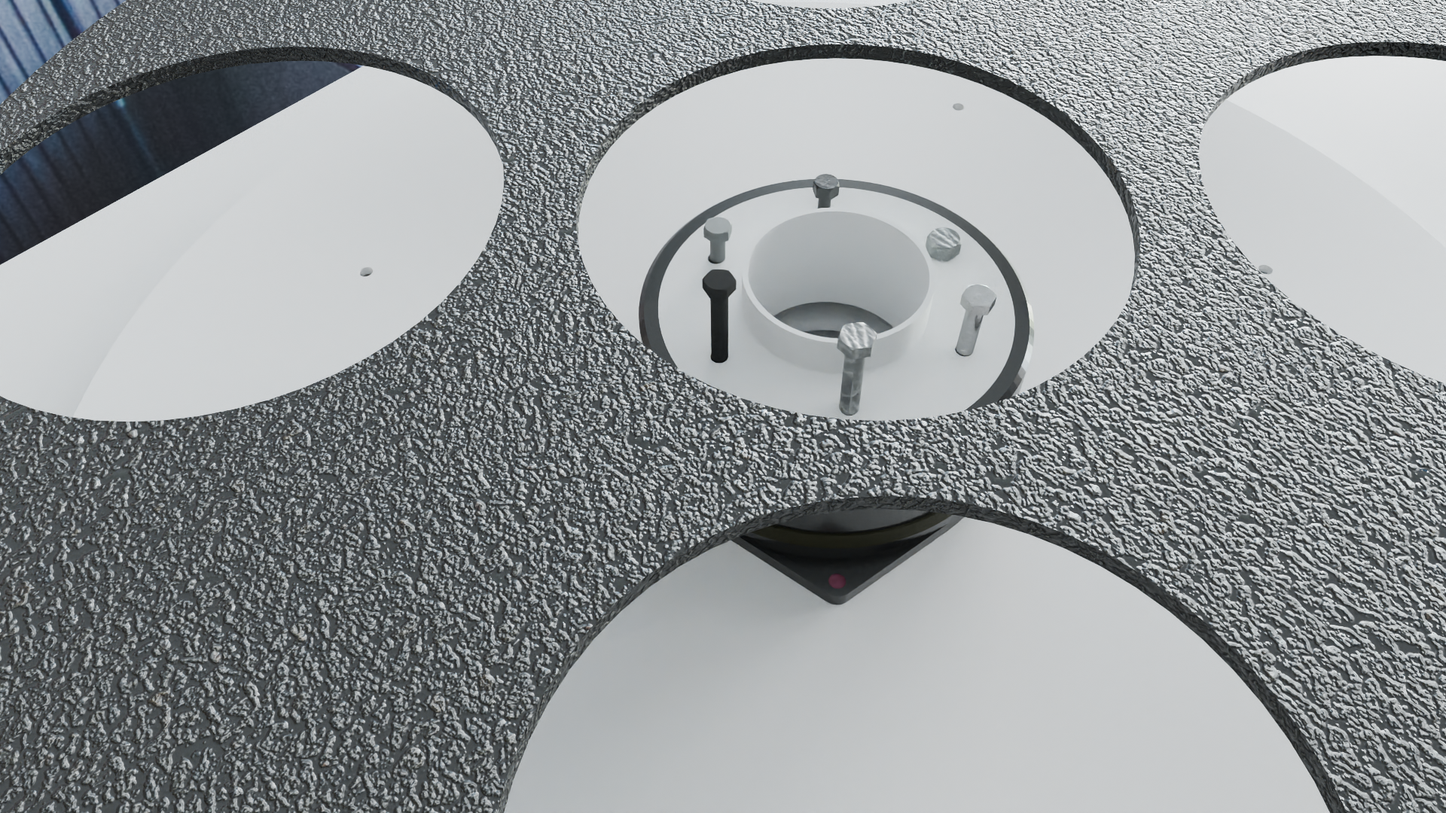bolt: (838, 322, 877, 350), (927, 227, 962, 252), (962, 285, 997, 307), (703, 269, 736, 291), (703, 217, 732, 236), (813, 174, 840, 193)
